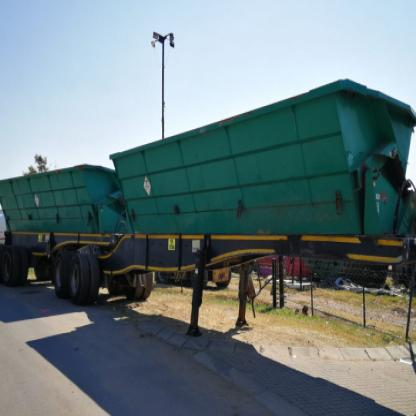dump_truck: (11, 72, 336, 414)
